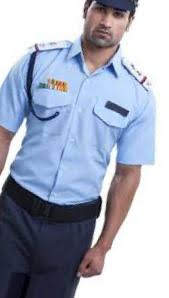uniform: (2, 26, 153, 290)
